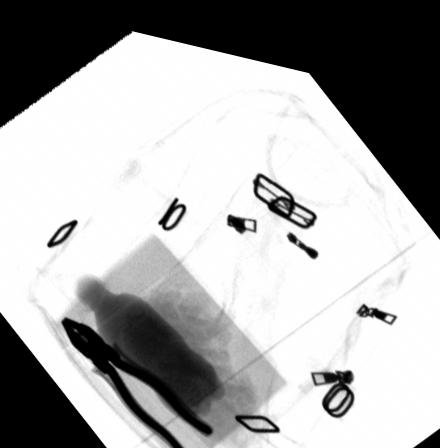Pliers: (59, 311, 214, 448)
